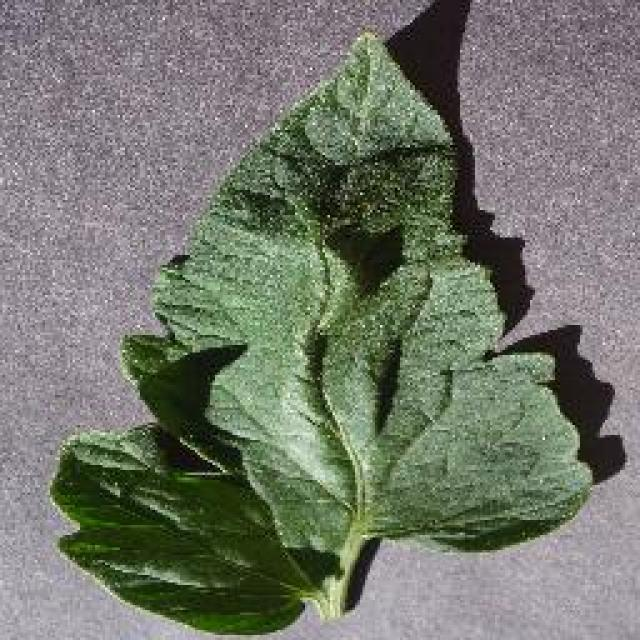Tomato___healthy: (43, 29, 597, 635)
